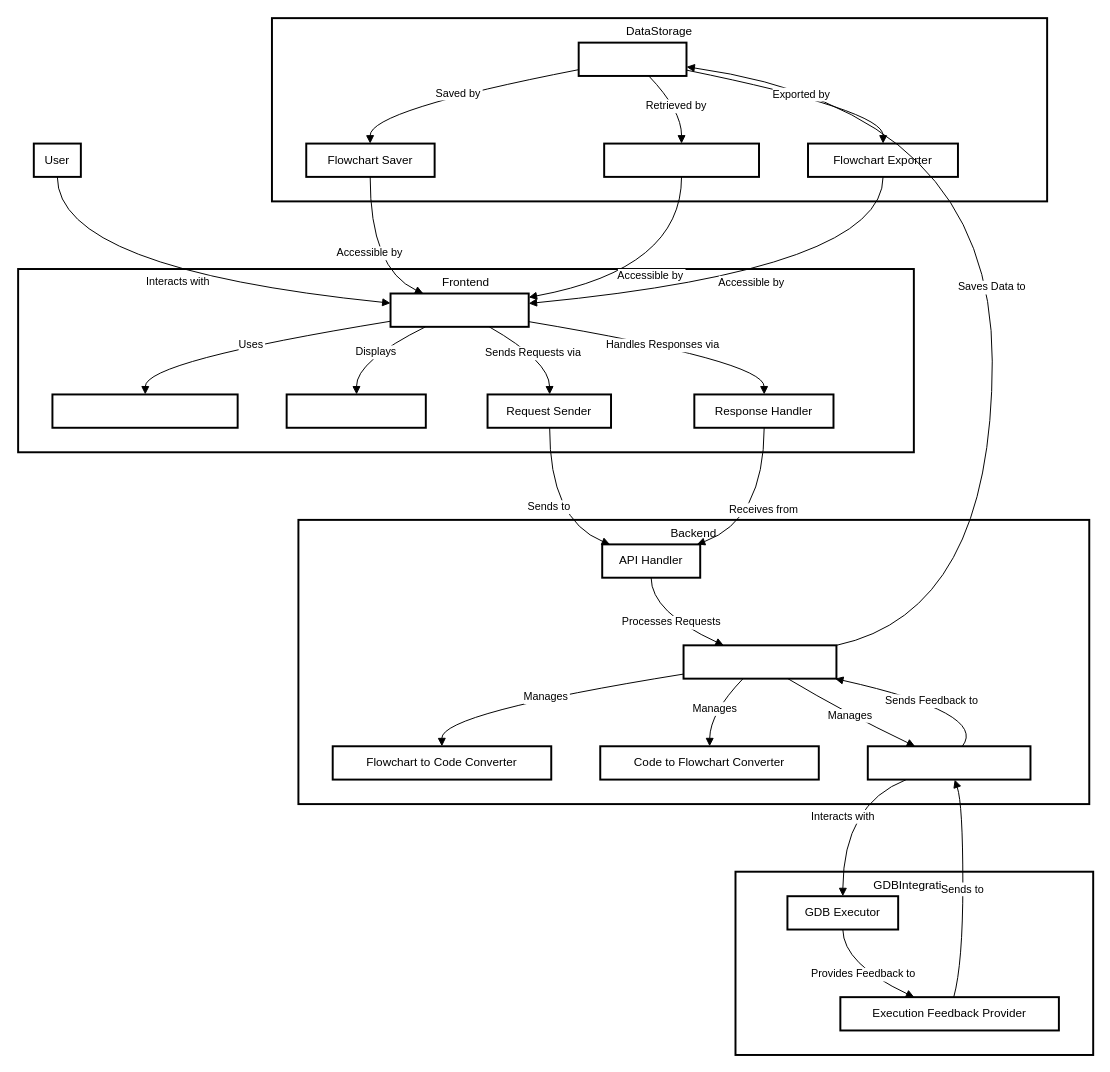
Image size: 1110x1072. Some labels were removed from this diagram. Here are the shapes that lost their labels. From the top down, the centre of each, then its label:
At point 632,58: "JSON Storage".
At point 681,159: "Flowchart Retriever".
At point 459,309: "React Component".
At point 144,410: "Drag-and-Drop Interface".
At point 355,410: "Flowchart Display".
At point 759,661: "Node.js Component".
At point 948,762: "GDB Session Manager".
